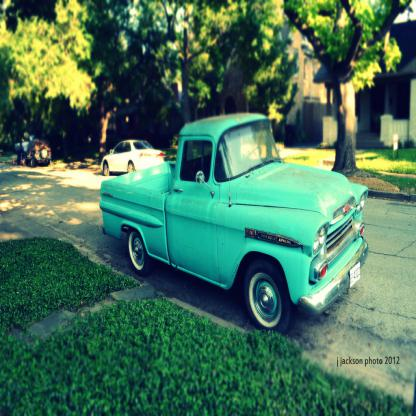Truck: (99, 113, 369, 334)
